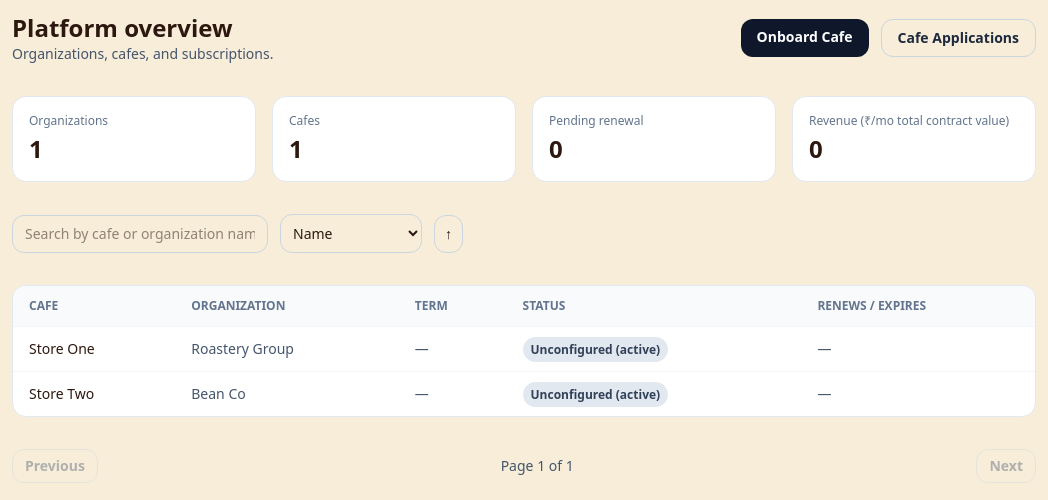
AdminOverviewPage › filters the cafe list by organization name as the admin types
expect the text "Store One" is shown: met, box [13, 326, 175, 372]
Type "bean co" into the field named "search cafes" at (140, 234), box [12, 214, 268, 252]
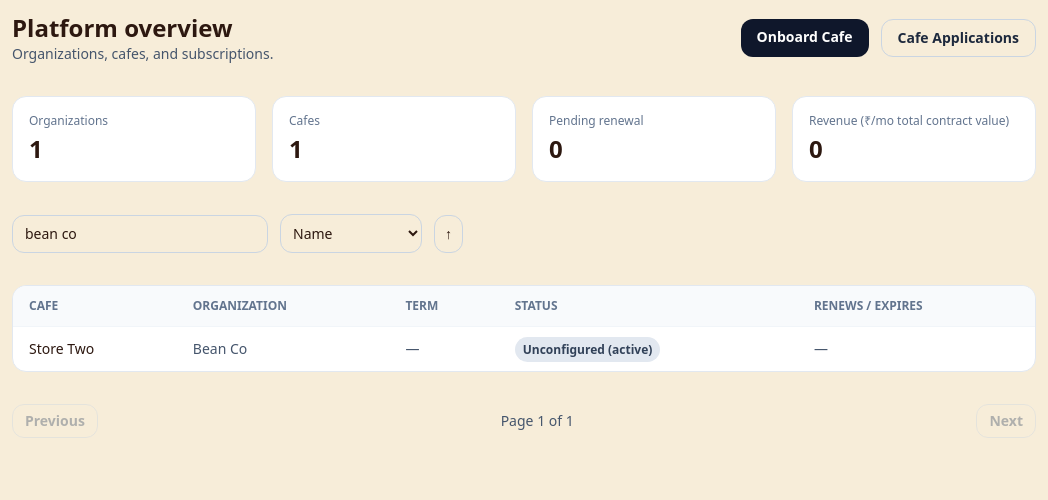
expect the text "Store Two" is shown: met, box [13, 326, 177, 371]
expect the text "Store One" is gone: met
